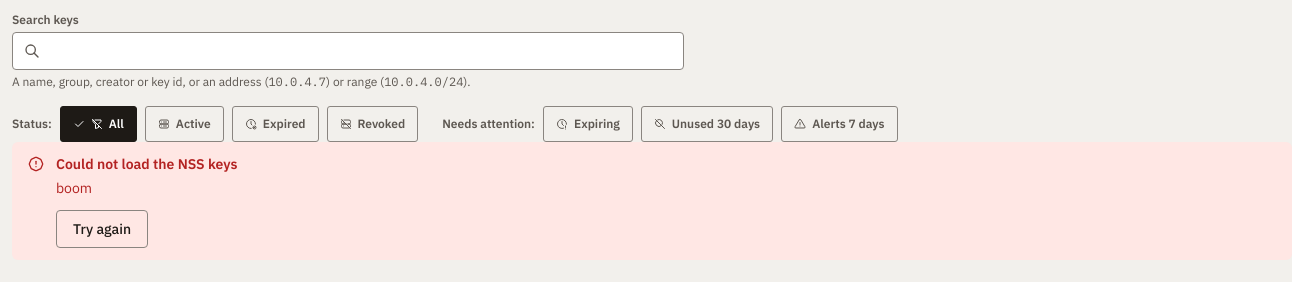
Test case: NSS admin key list states › should load the list when Try again is pressed after a failure
Click the button with test id "nss-admin-keys-error-retry": (102, 229) [56,210,148,248]
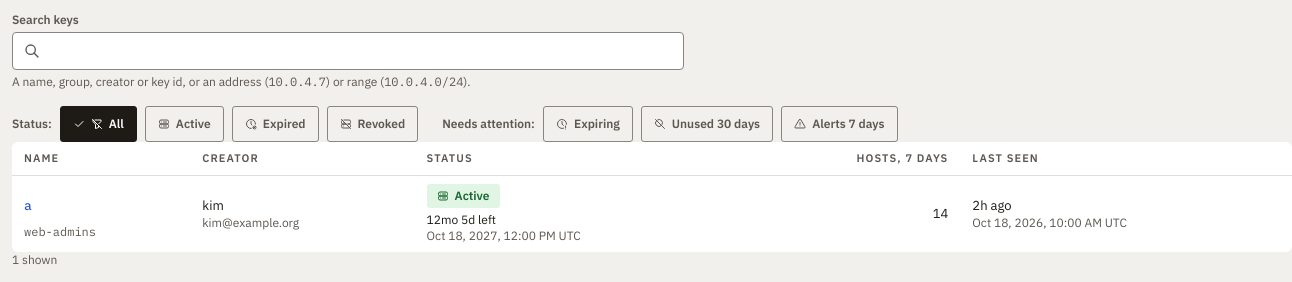
Check: the table with test id "nss-admin-keys-table" is shown, box [12,142,1291,252]
